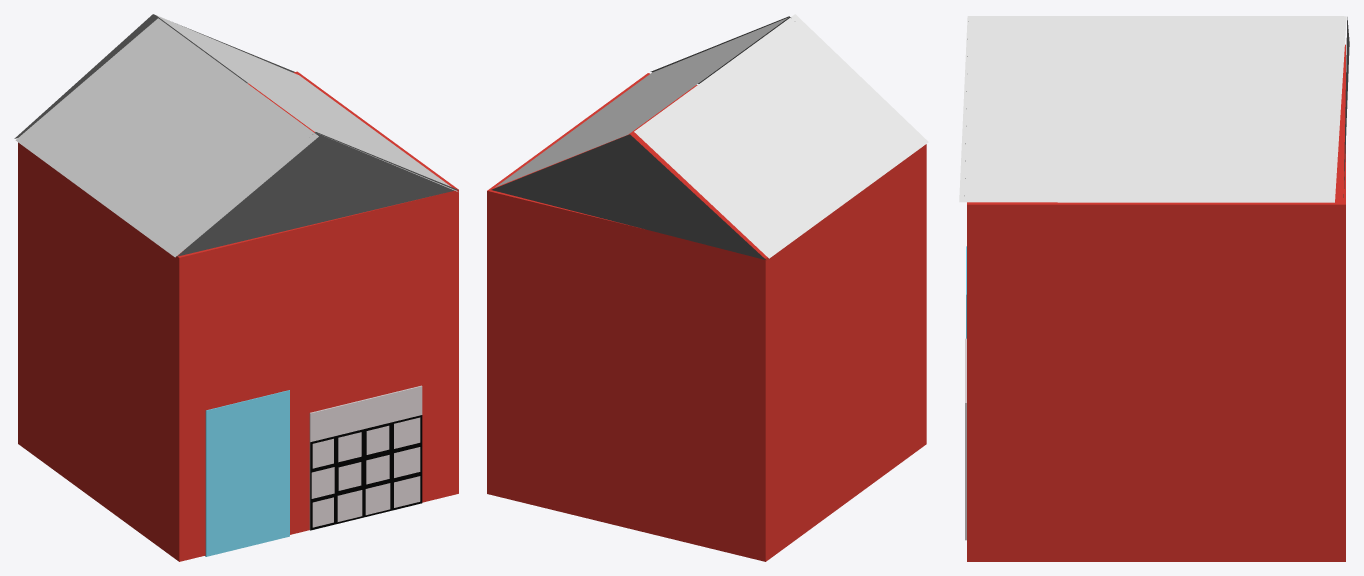
Rendered from house.glb.
3 renders of one model, left to right at view 1: azimuth 30°, elevation 25°; view 2: azimuth 150°, elevation 25°; view 3: azimuth 270°, elevation 25°, orthographic. The views are drawn at different scales.
Parts seen in each view (by area): view 1: Cube, Plane, Garage Door, Plane.003, Cube.002, Plane.001, Plane.002; view 2: Cube, Plane, Plane.002, Plane.001; view 3: Cube, Plane.001.
Part boxes in pixels (x1,y1,x2,y2): Cube: (18,71,458,561); Plane: (15,18,318,257); Garage Door: (309,385,422,530); Plane.003: (177,132,457,256); Cube.002: (205,390,289,556); Plane.001: (156,15,457,191); Plane.002: (14,14,294,138); Cube: (487,73,926,561); Plane: (634,14,928,258); Plane.002: (491,134,765,259); Plane.001: (495,17,788,187); Cube: (967,44,1345,561); Plane.001: (959,16,1346,202).
Size of the model in its own units: 4.05 by 5.43 by 4.14.
